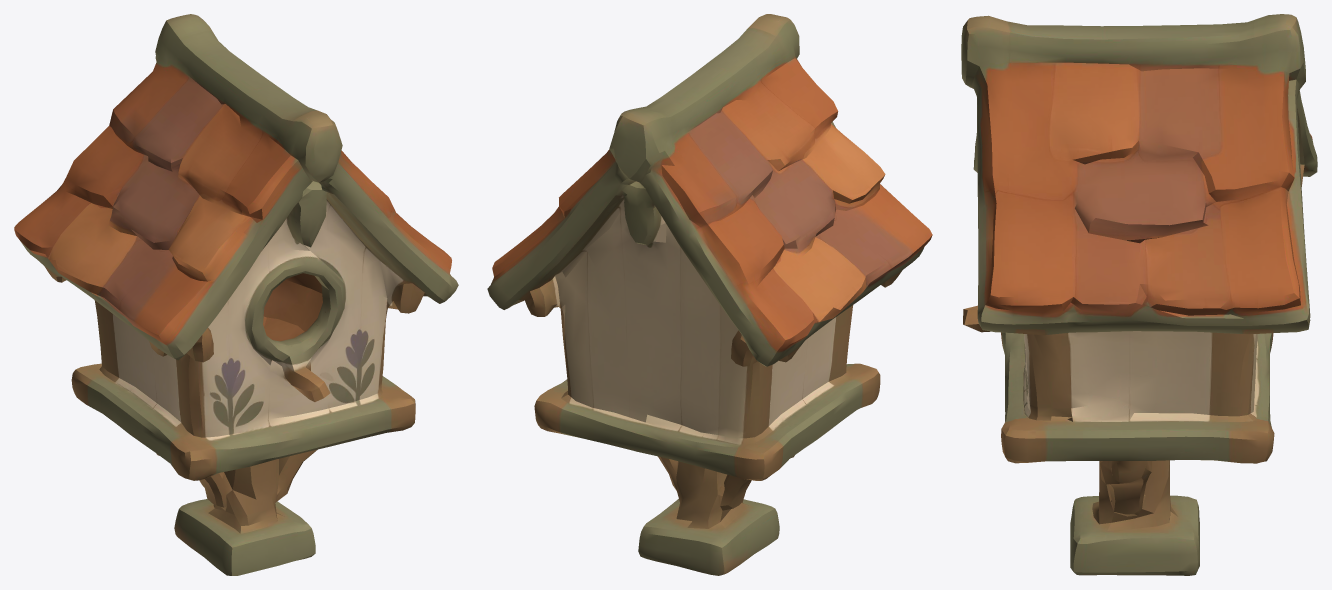
Rendered from Manor_Birdhouse_01.glb.
3 views of the same model, side by side, from view 1: azimuth 30°, elevation 25°; view 2: azimuth 150°, elevation 25°; view 3: azimuth 270°, elevation 25° (orthographic). The views are drawn at different scales.
Parts seen in each view (by area): view 1: Manor_Birdhouse_01.001; view 2: Manor_Birdhouse_01.001; view 3: Manor_Birdhouse_01.001.
Boxes of the visible parts, x1,y1,x2,y2 form: Manor_Birdhouse_01.001: [14, 14, 458, 575]; Manor_Birdhouse_01.001: [487, 14, 932, 575]; Manor_Birdhouse_01.001: [961, 14, 1317, 575].
Bounding box in the file's own units: 0.6687 × 1 × 0.6002.
Materials: 1 (1 with a texture image).
